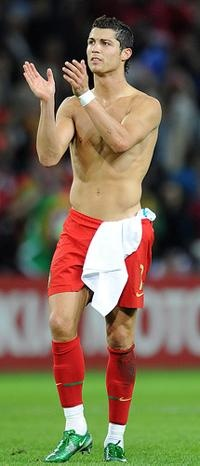person without safety: (16, 15, 162, 462)
